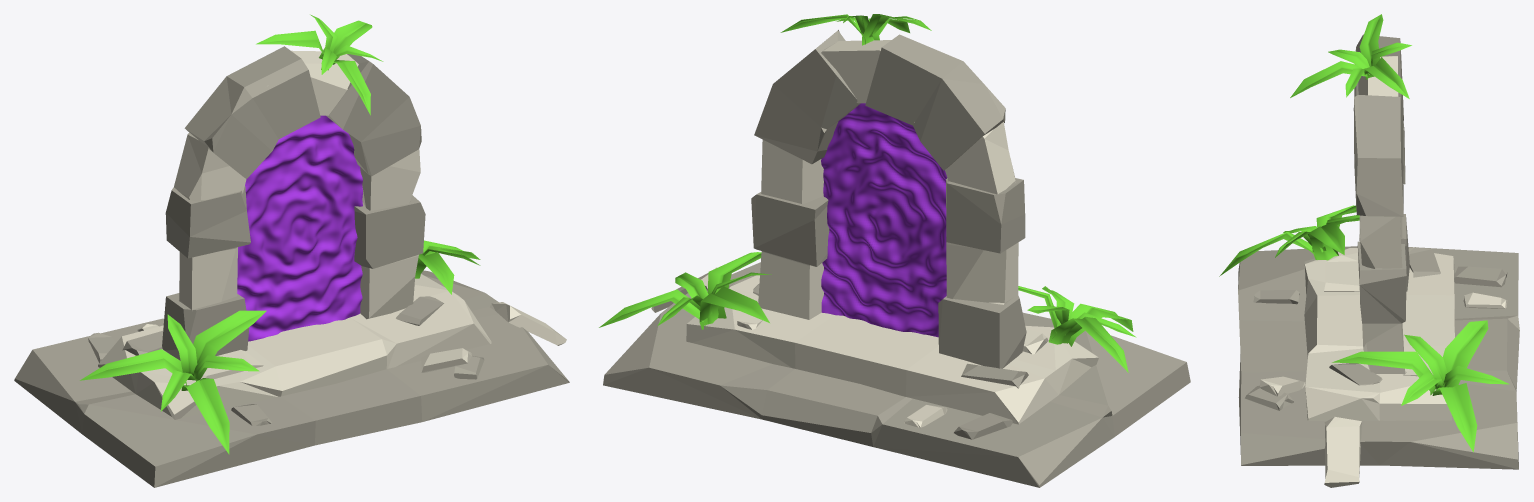
Rendered from Portal.fbx.
3 renders of one model, left to right at view 1: azimuth 30°, elevation 25°; view 2: azimuth 150°, elevation 25°; view 3: azimuth 270°, elevation 25°, orthographic. The views are drawn at different scales.
Parts seen in each view (by area): view 1: Portal, Portal.001; view 2: Portal, Portal.001; view 3: Portal.
Part boxes in pixels (x1=…): Portal: x1=14, y1=14, x2=569, y2=487; Portal.001: x1=237, y1=115, x2=362, y2=341; Portal: x1=599, y1=14, x2=1190, y2=487; Portal.001: x1=821, y1=103, x2=947, y2=337; Portal: x1=1219, y1=14, x2=1519, y2=487.
Size of the model in its own units: 714 by 520 by 410.
